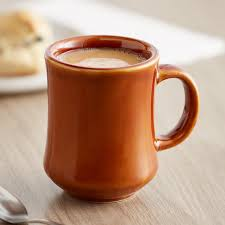mug: (31, 27, 203, 203)
